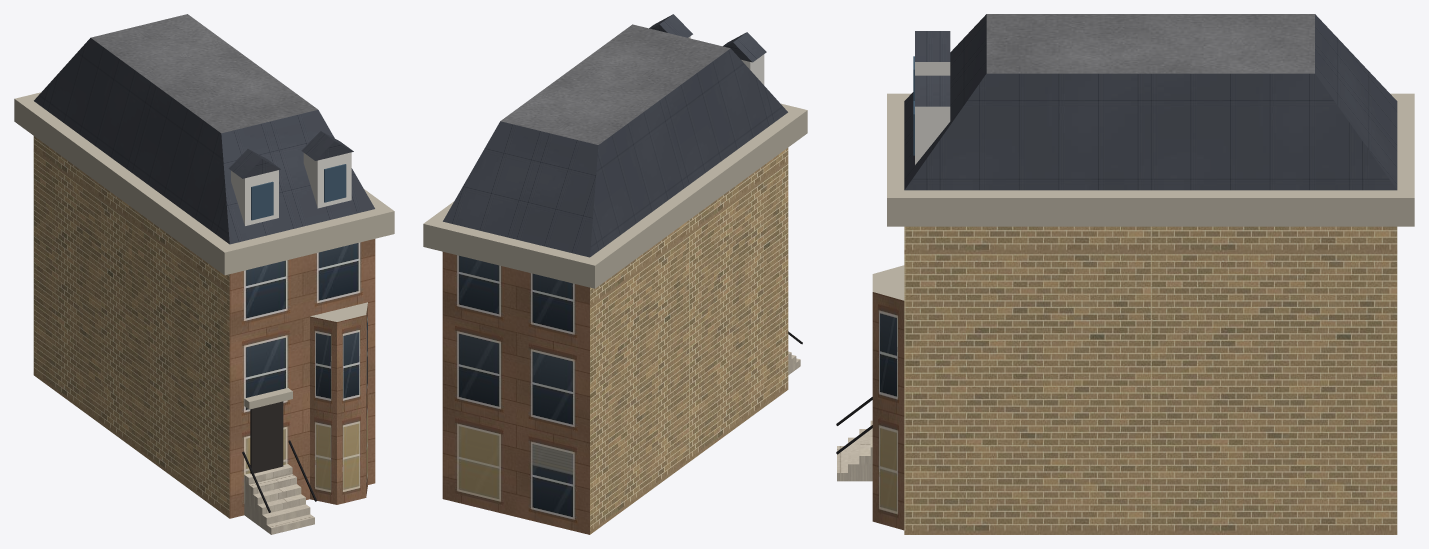
The model's file is 006_sandstone_bay_mansard.glb.
The picture shows the model from 3 angles, left to right: view 1: azimuth 30°, elevation 25°; view 2: azimuth 150°, elevation 25°; view 3: azimuth 270°, elevation 25°; orthographic projection. The views are drawn at different scales.
Visible parts, largest first — view 1: 006_sandstone_bay_mansard; view 2: 006_sandstone_bay_mansard; view 3: 006_sandstone_bay_mansard.
Boxes of the visible parts, x1=… form: 006_sandstone_bay_mansard: x1=14, y1=14, x2=394, y2=534; 006_sandstone_bay_mansard: x1=423, y1=14, x2=807, y2=534; 006_sandstone_bay_mansard: x1=836, y1=14, x2=1414, y2=534.
Size of the model in its own units: 7 by 14 by 16.44.
Materials: 10 (5 with a texture image).
